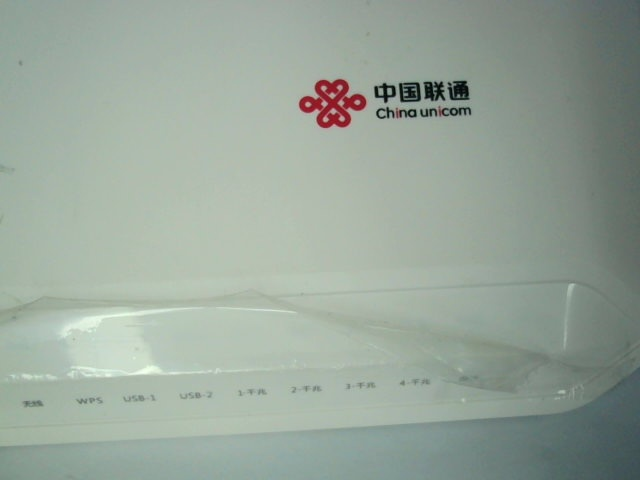AD_ChinaUnicom: (286, 63, 490, 130)
